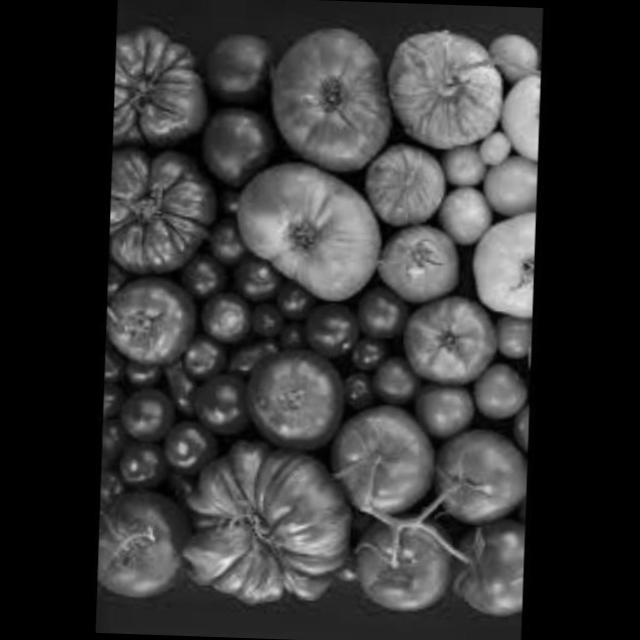ca chua: (178, 439, 342, 598), (232, 160, 380, 300), (198, 281, 414, 371), (266, 17, 390, 172), (100, 347, 230, 490), (376, 23, 498, 156), (344, 362, 530, 442), (108, 140, 214, 260), (329, 410, 434, 528), (112, 26, 209, 150), (238, 348, 350, 454), (351, 513, 457, 615), (104, 270, 200, 371), (468, 202, 536, 339), (96, 493, 183, 600), (397, 290, 497, 382), (352, 136, 450, 229), (369, 217, 464, 310), (202, 29, 291, 126), (434, 432, 524, 522), (190, 105, 290, 184), (444, 524, 524, 614), (487, 60, 541, 156), (429, 184, 498, 255), (478, 145, 536, 220), (478, 22, 541, 88), (438, 138, 490, 192), (470, 124, 517, 168)
